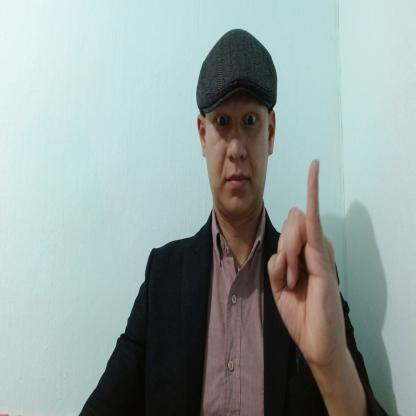I: (266, 154, 346, 369)
